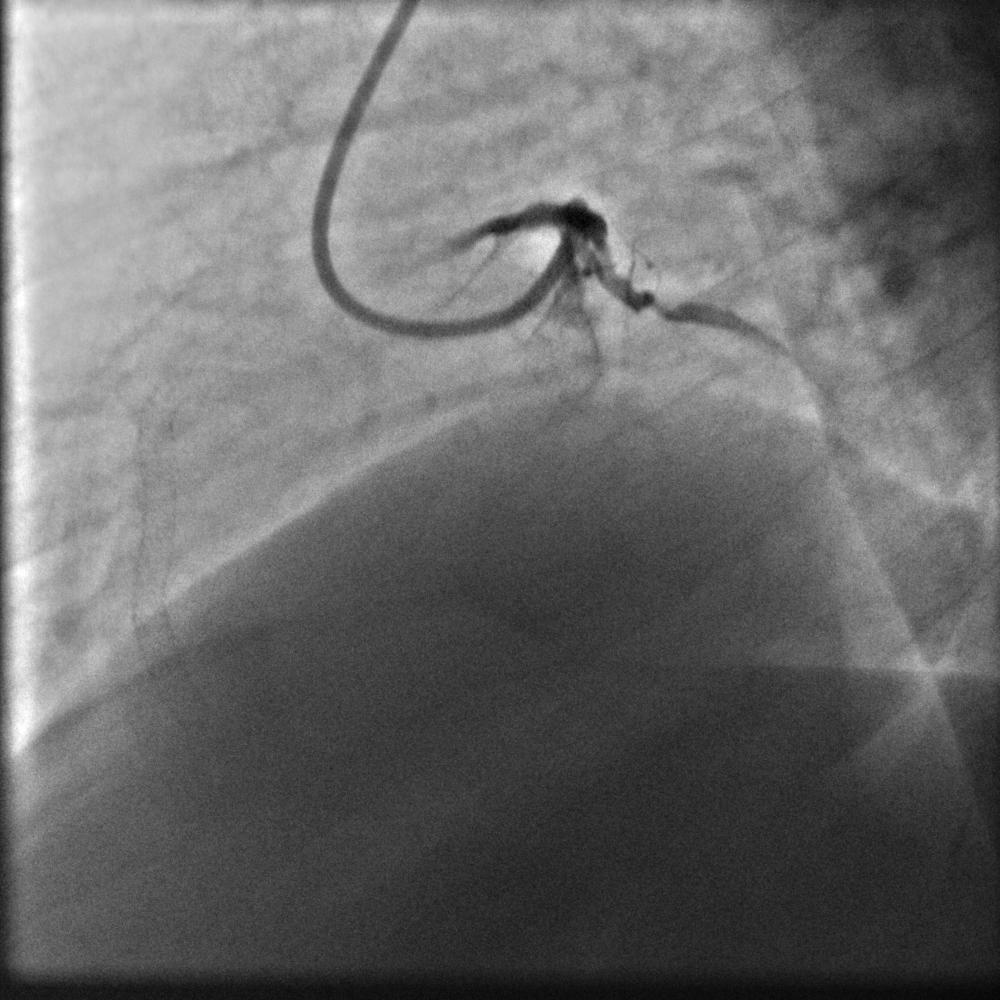Stenosis: (653, 294, 678, 319)
